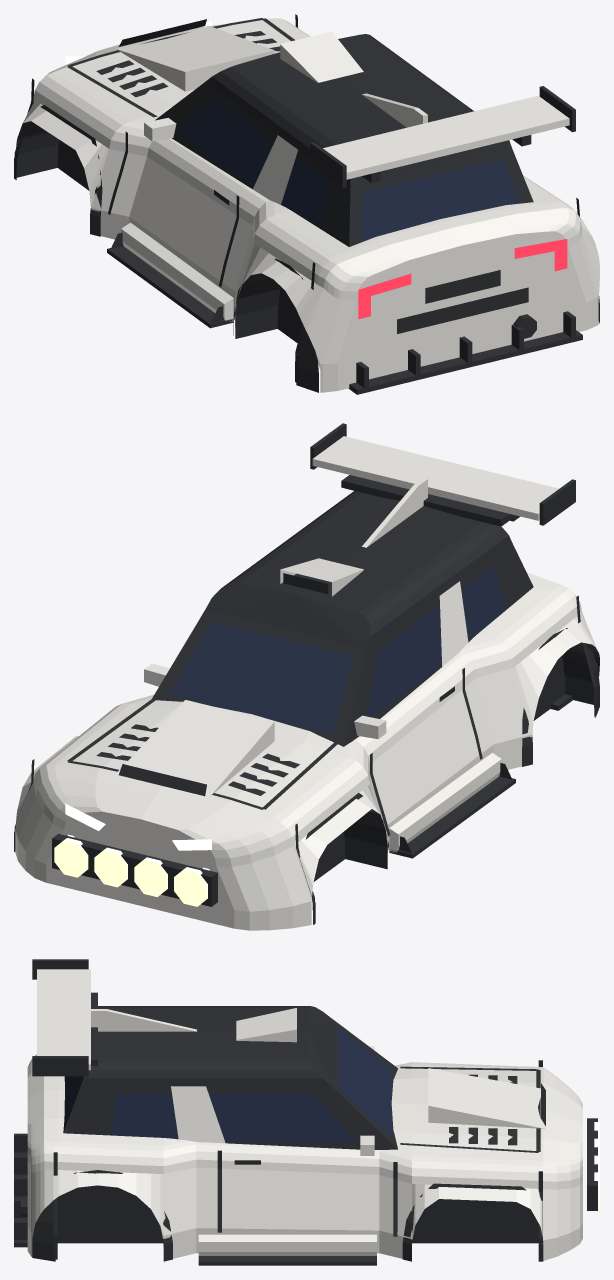
File: Requin.glb
3 renders of one model, top to bottom at view 1: azimuth 30°, elevation 25°; view 2: azimuth 150°, elevation 25°; view 3: azimuth 270°, elevation 25°, orthographic. The views are drawn at different scales.
Parts seen in each view (by area): view 1: BumperRear, Roof, Door_FL, Opt_Wing_Rally_WingBlade, Fender_FL, RearWindow, Fender_RL, Pillars, Hood, Opt_Hood_Scoop_HoodScoop, Window_FL, Underbody (+22 smaller); view 2: BumperFront, Roof, Windshield, Fender_RL, Door_FL, Hood, Pillars, Opt_Hood_Scoop_HoodScoop, Opt_Wing_Rally_WingBlade, Fender_FL, Window_FL, Opt_Bumper_Lamps_RallyLamp (+17 smaller); view 3: Roof, Door_FR, Fender_RR, WheelWell, Pillars, Hood, Fender_FR, BumperFront, Window_FR, Opt_Hood_Scoop_HoodScoop, Opt_Wing_Rally_WingBlade, BumperRear (+18 smaller).
Boxes of the visible parts, x1,y1,x2,y2 form: BumperRear: (299, 203, 599, 392); Roof: (205, 34, 511, 187); Door_FL: (107, 126, 256, 289); Opt_Wing_Rally_WingBlade: (323, 95, 569, 179); Fender_FL: (23, 71, 143, 237); RearWindow: (362, 159, 519, 241); Fender_RL: (223, 192, 337, 327); Pillars: (155, 82, 533, 246); Hood: (55, 18, 302, 124); Opt_Hood_Scoop_HoodScoop: (115, 26, 274, 91); Window_FL: (176, 98, 274, 187); Underbody: (16, 121, 280, 338); BumperFront: (15, 765, 311, 930); Roof: (205, 491, 511, 648); Windshield: (169, 621, 352, 734); Fender_RL: (447, 589, 594, 769); Door_FL: (348, 663, 481, 852); Hood: (55, 699, 348, 818); Pillars: (152, 543, 533, 746); Opt_Hood_Scoop_HoodScoop: (115, 700, 274, 797); Opt_Wing_Rally_WingBlade: (312, 436, 558, 520); Fender_FL: (273, 749, 387, 900); Window_FL: (366, 605, 441, 717); Opt_Bumper_Lamps_RallyLamp: (54, 838, 207, 906); Roof: (80, 1006, 331, 1086); Door_FR: (217, 1143, 397, 1257); Fender_RR: (53, 1141, 217, 1258); WheelWell: (57, 1185, 543, 1243); Pillars: (63, 1018, 397, 1149); Hood: (398, 1064, 543, 1160); Fender_FR: (398, 1152, 543, 1258); BumperFront: (543, 1067, 582, 1260); Window_FR: (209, 1094, 356, 1142); Opt_Hood_Scoop_HoodScoop: (428, 1068, 545, 1128); Opt_Wing_Rally_WingBlade: (37, 969, 90, 1070); BumperRear: (27, 1054, 53, 1256).
Bounding box in the file's own units: 6.5 × 4.54 × 12.5.
